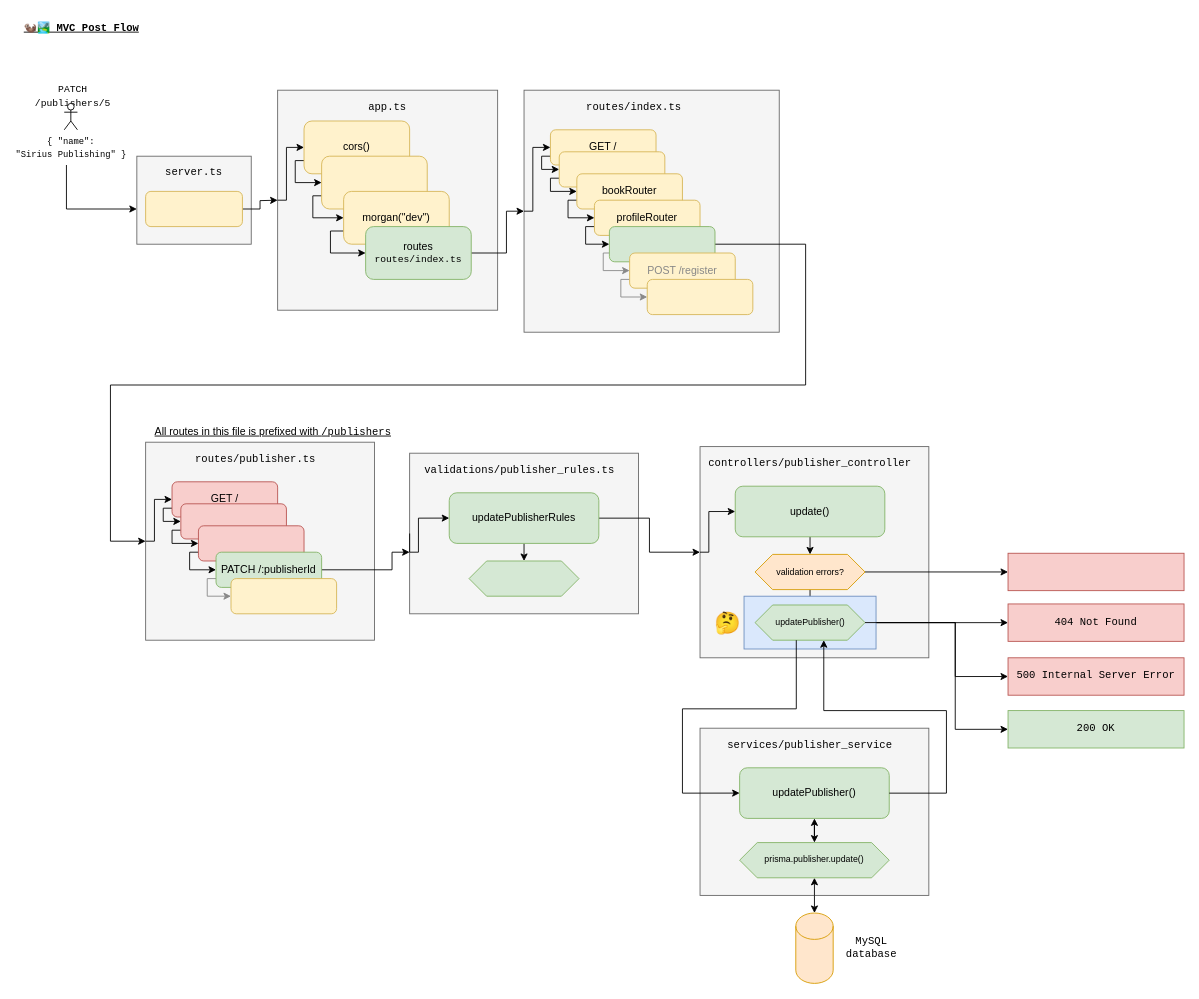
Some shapes in this 1199 by 999 pixel diagram are drawn without their labels. The box of each missing label's shape, as (x1, y1, x2, y2) in pixels:
400 Bad Request: (1007, 552, 1184, 591)
app: (145, 191, 242, 227)
authorRouter: (558, 151, 665, 187)
Catch all: (646, 279, 753, 315)
DELETE /:publisherId: (230, 578, 337, 614)
express.json(): (321, 155, 427, 209)
GET /:publisherId: (180, 503, 286, 539)
POST /: (198, 525, 304, 561)
publisherRouter: (609, 226, 715, 262)
✅ "name" is string >= 3 && <= 191: (468, 560, 579, 596)
